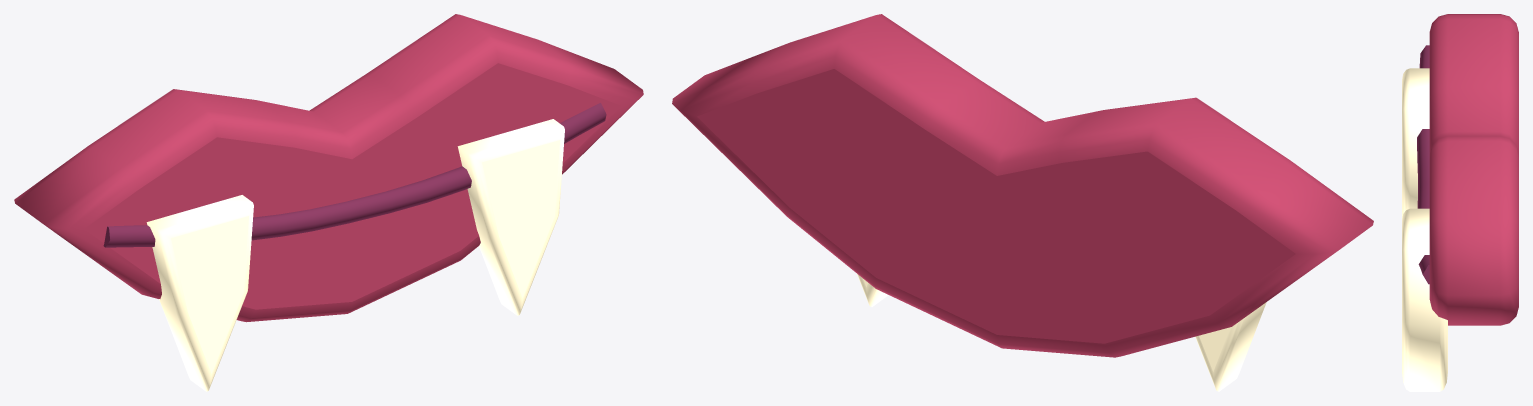
The model's file is plum_fangs.glb.
The picture shows the model from 3 angles, left to right: view 1: azimuth 30°, elevation 25°; view 2: azimuth 150°, elevation 25°; view 3: azimuth 270°, elevation 25°; orthographic projection. The views are drawn at different scales.
Parts seen in each view (by area): view 1: Plum Vampire Fangs; view 2: Plum Vampire Fangs; view 3: Plum Vampire Fangs.
Part boxes in pixels (x1,y1,x2,y2): Plum Vampire Fangs: (14, 14, 643, 391); Plum Vampire Fangs: (672, 14, 1373, 391); Plum Vampire Fangs: (1402, 14, 1518, 391).
Bounding box in the file's own units: 1 × 0.4261 × 0.1825.
